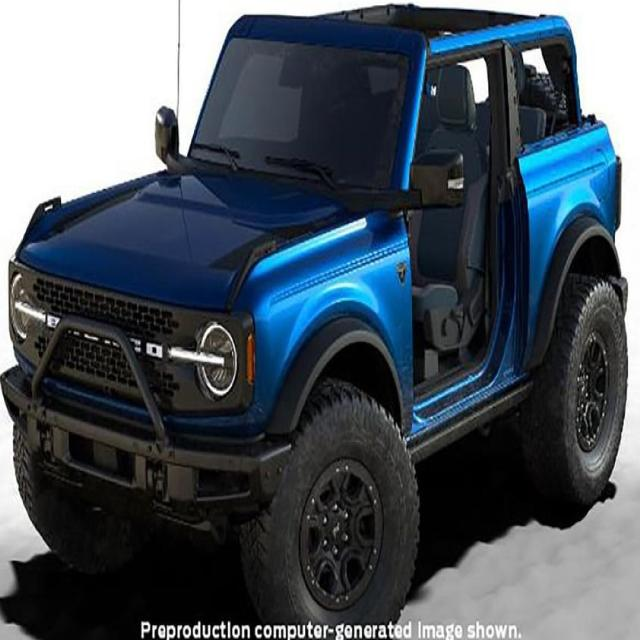blue: (11, 3, 631, 640)
